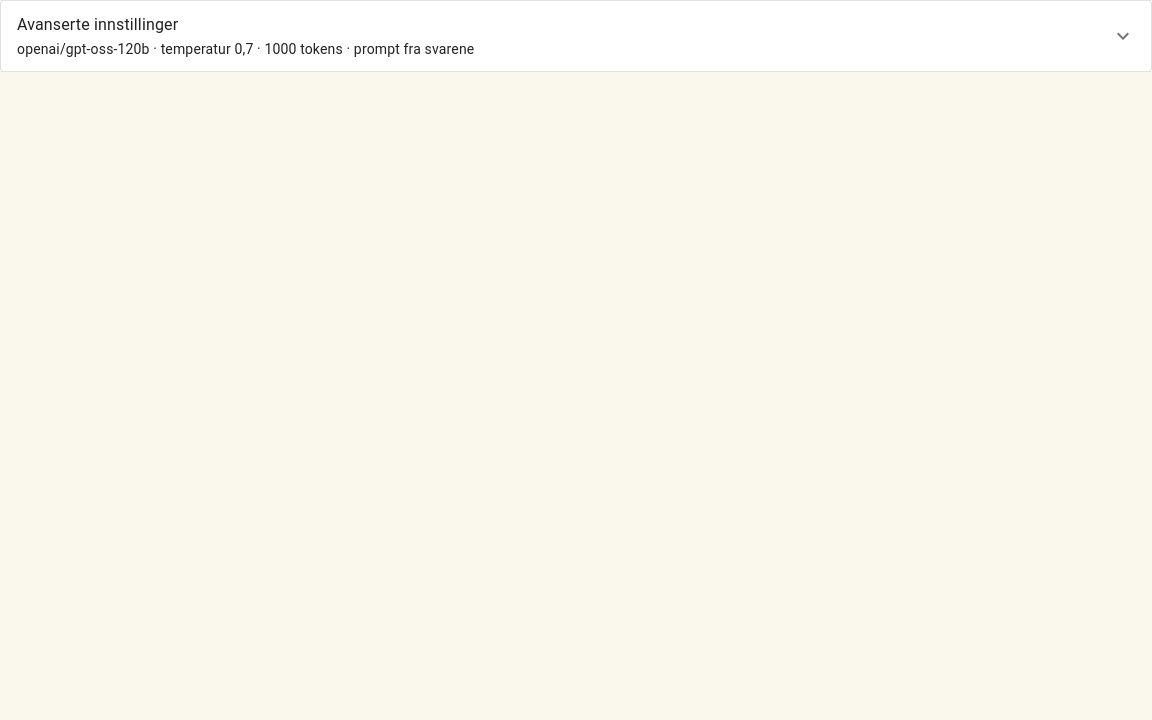
Test case: AdvancedSettingsFields › shows the prompt built from the answers until the counsellor writes one
Click the button "Avanserte innstillinger": (98, 24) [1,1,1151,71]
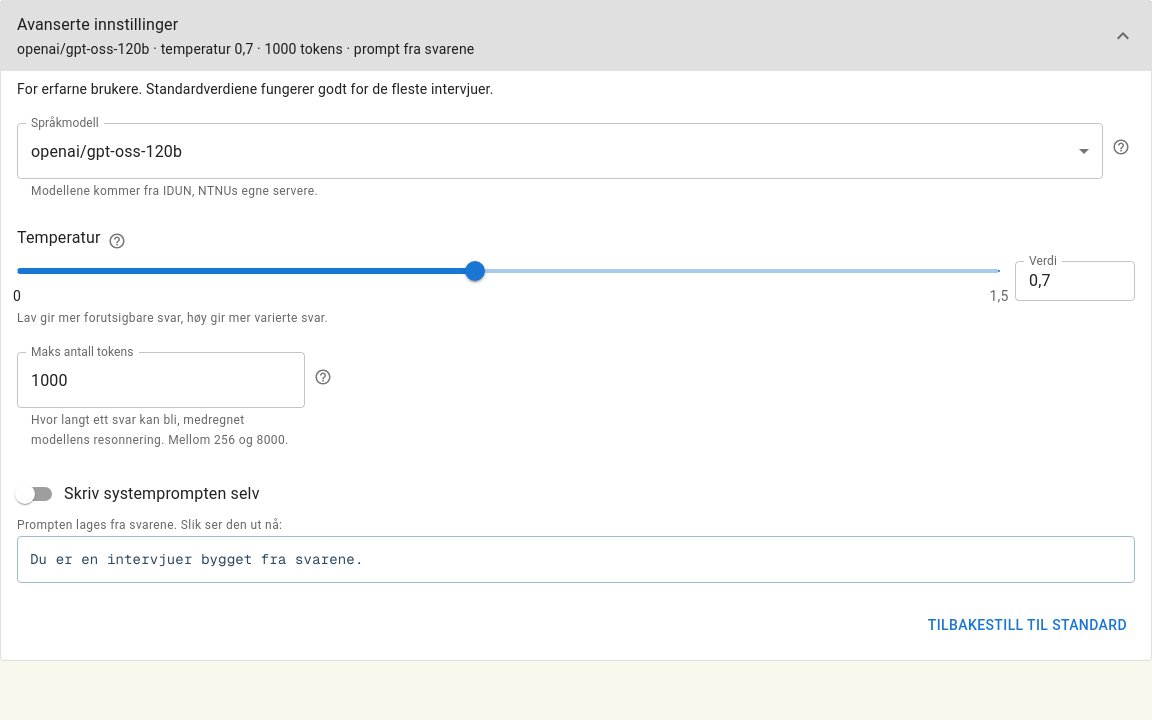
Check: the text "Du er en intervjuer bygget fra svarene." is shown, box [17,536,1135,583]
Click the switch labelled "Skriv systemprompten selv": (137, 494) [15,484,260,504]
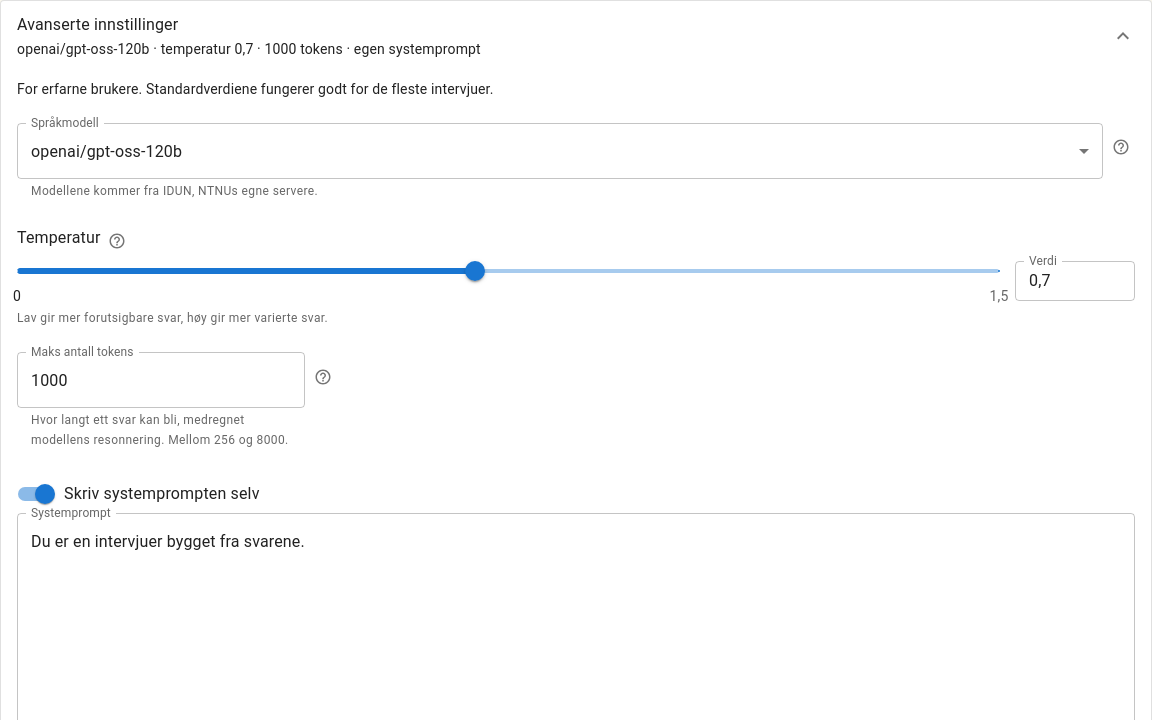
Check: the text box labelled "Systemprompt" holds "Du er en intervjuer bygget fra svarene.", box [31,530,1121,714]
Check: the text "egen systemprompt" is shown, box [17,41,481,57]
